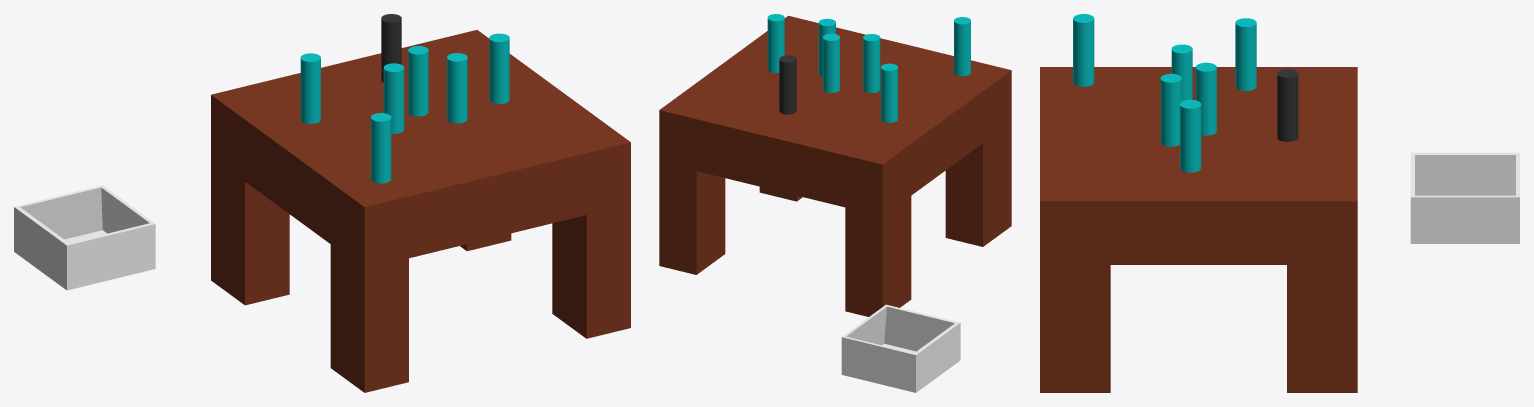
File: can_world_7_cans.dae
3 views of the same model, side by side, from view 1: azimuth 30°, elevation 25°; view 2: azimuth 150°, elevation 25°; view 3: azimuth 270°, elevation 25° (orthographic). The views are drawn at different scales.
Visible parts, largest first — view 1: base (×11), SketchUp (×2); view 2: base (×11), SketchUp (×2); view 3: base (×10), SketchUp (×2).
Part boxes in pixels (x1,y1,x2,y2): base (×11): (211, 14, 630, 392); SketchUp (×2): (14, 185, 155, 290); base (×11): (659, 14, 1011, 316); SketchUp (×2): (841, 304, 960, 392); base (×10): (1040, 14, 1357, 392); SketchUp (×2): (1410, 152, 1519, 243).
Bounding box in the file's own units: 1.3 × 1.36 × 0.811.
